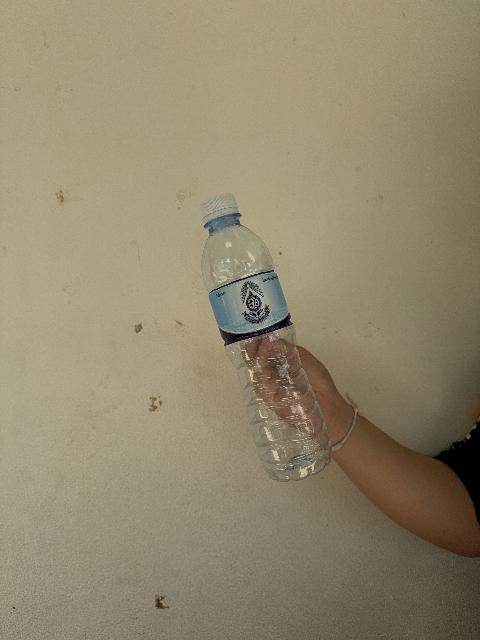bottle: (200, 194, 331, 481)
